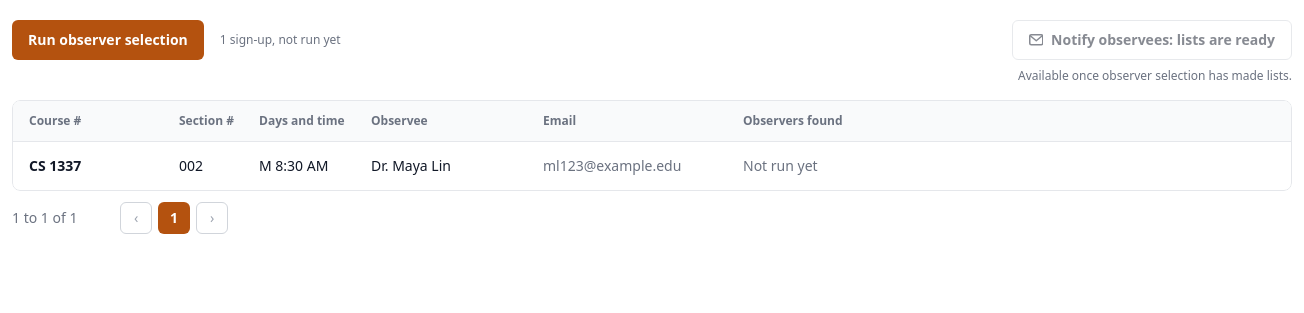
Test: Sign-up requests page › shows the server message when observer selection is refused
The width and height of the screenshot is (1304, 313).
Click the button "Run observer selection" at {"x": 108, "y": 40}, box [12,20,204,60]
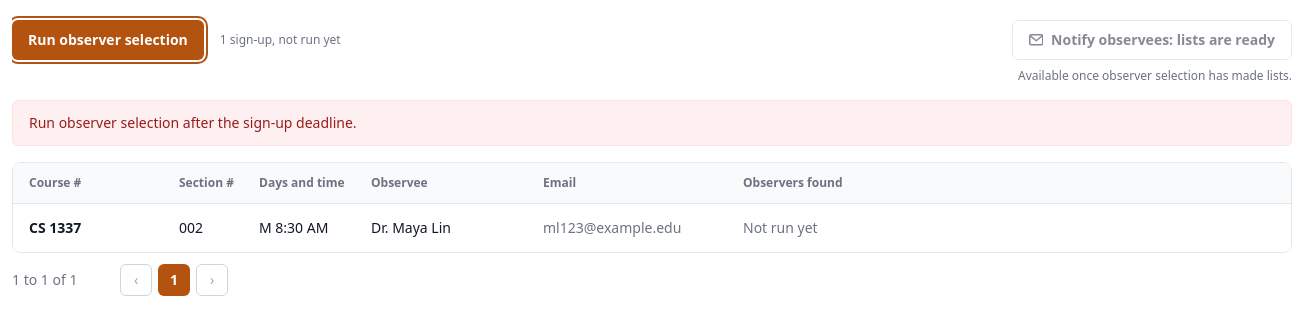
Now the message "Run observer selection after the sign-up deadline." is shown, box [12,100,1292,146]
